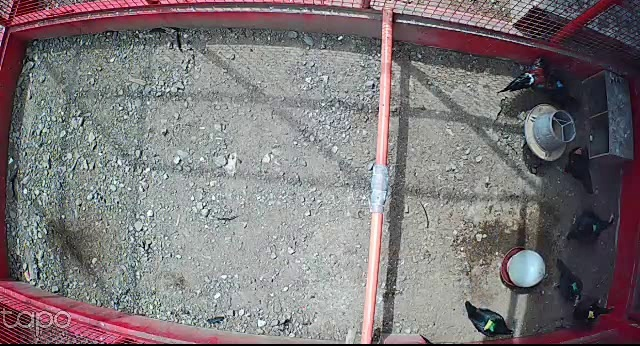Chicken: (559, 206, 617, 249), (459, 299, 517, 341), (557, 144, 600, 194), (550, 258, 585, 307), (570, 294, 614, 332)
Drinker: (499, 246, 549, 289)
Feeder: (524, 102, 578, 162)
Rooster: (495, 56, 575, 100)
Saddle_Color_Yellow: (587, 311, 594, 318)
Saddle_Color_YellowGreen: (484, 320, 496, 333)
